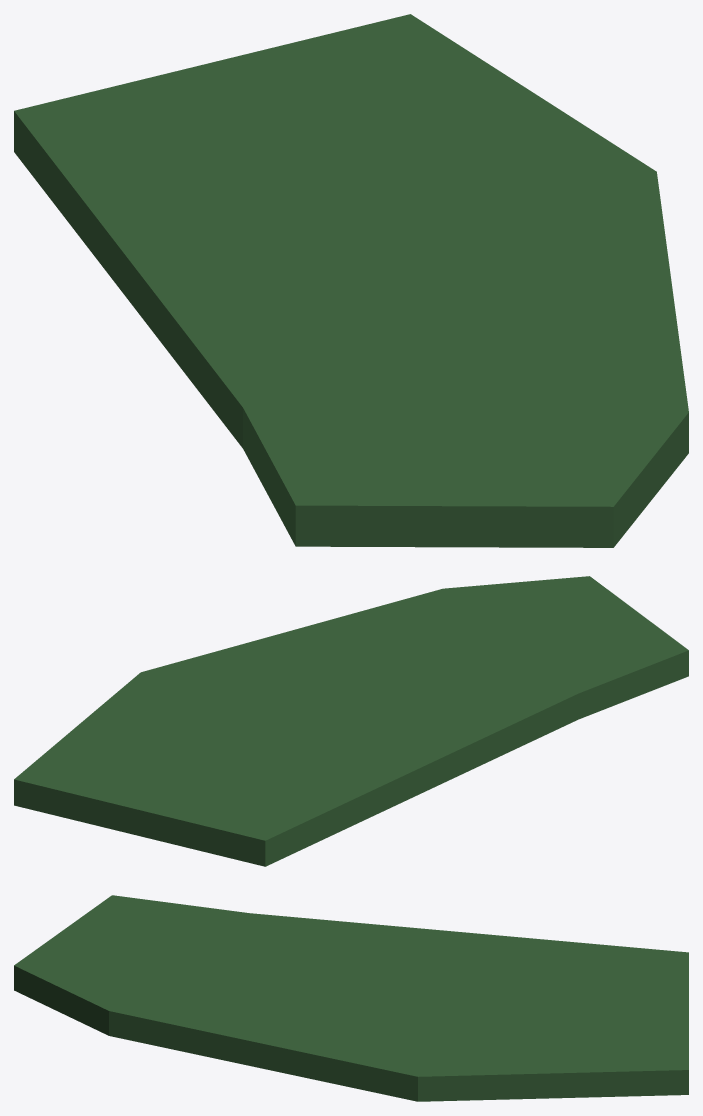
File: x_proval_00_2_1_rmstrd.fbx
The picture shows the model from 3 angles, top to bottom: view 1: azimuth 30°, elevation 25°; view 2: azimuth 150°, elevation 25°; view 3: azimuth 270°, elevation 25°; orthographic projection. The views are drawn at different scales.
Parts seen in each view (by area): view 1: x_proval_00_2_1_rmstrd1; view 2: x_proval_00_2_1_rmstrd1; view 3: x_proval_00_2_1_rmstrd1.
Boxes of the visible parts, left/top/right/bottom form: x_proval_00_2_1_rmstrd1: left=14, top=14, right=688, bottom=547; x_proval_00_2_1_rmstrd1: left=14, top=576, right=688, bottom=866; x_proval_00_2_1_rmstrd1: left=14, top=895, right=688, bottom=1101.
Bounding box in the file's own units: 3.12 × 0.2 × 4.9.
